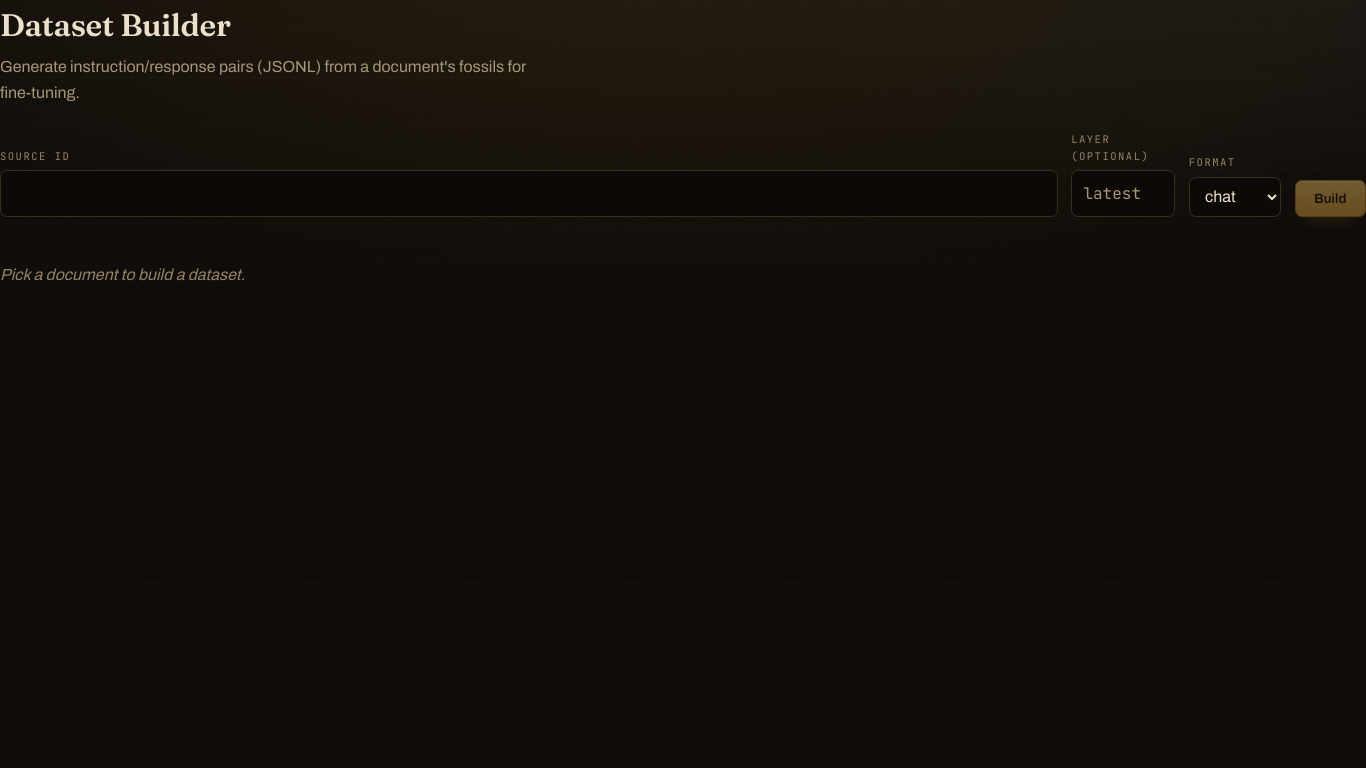
DatasetPanel › builds a dataset and shows the count and jsonl
The width and height of the screenshot is (1366, 768).
In the field labelled "Source id": (529,194) [0,170,1058,217], type "report.txt"
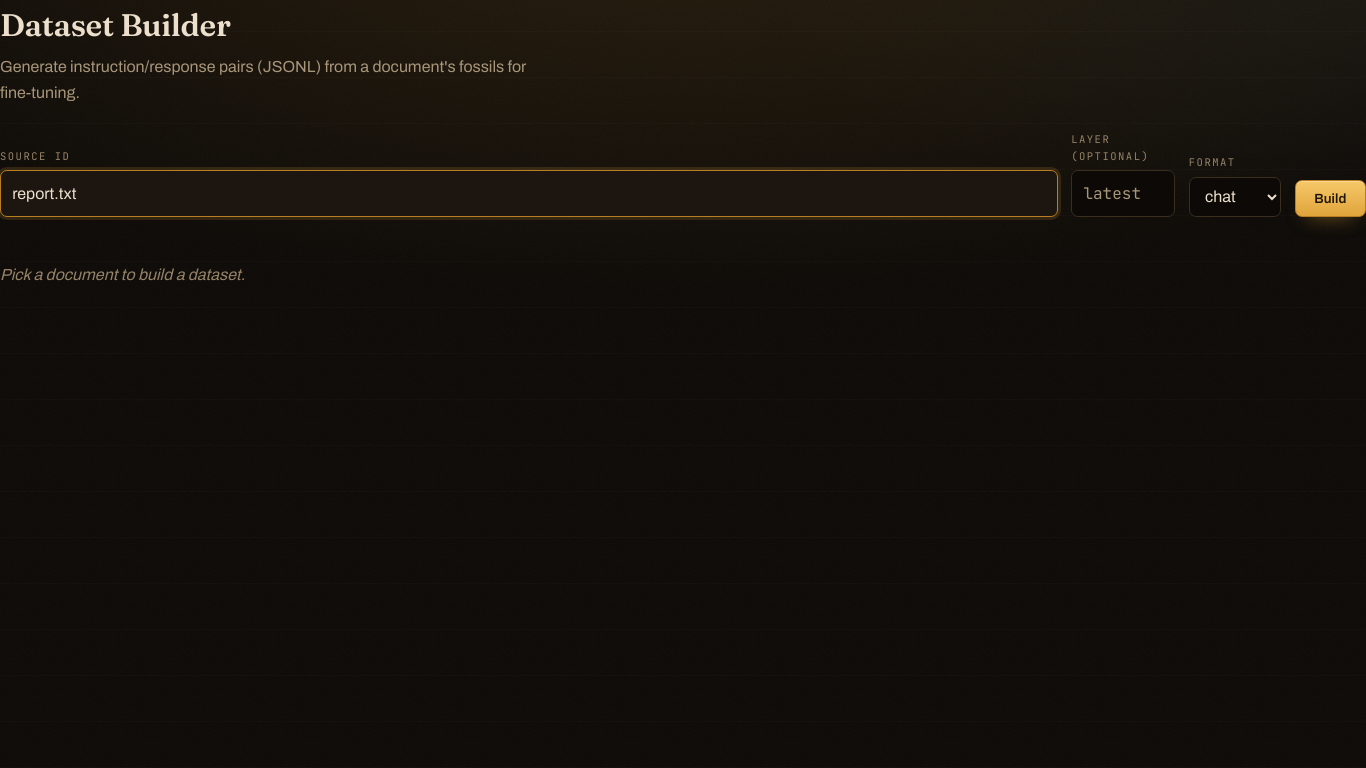
Click the button "Build": (1330,198) [1295,180,1365,217]
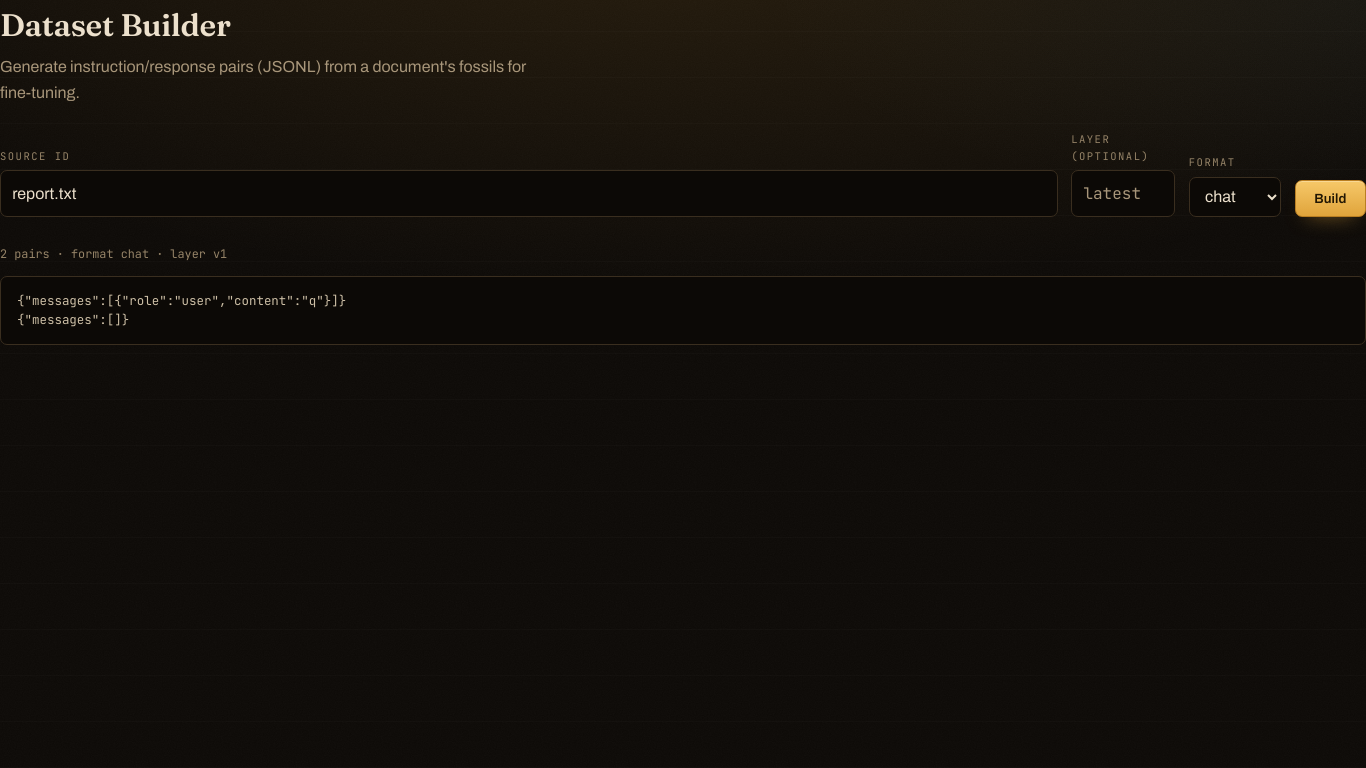
Check: the text "2 pairs · format chat · layer v1" is shown, box [0,246,227,262]
Check: the text named "dataset jsonl" reads "{\"messages\":[{\"role\":\"user\",\"content\":\"q\"}]} {\"messages\":[]}", box [17,292,346,328]
